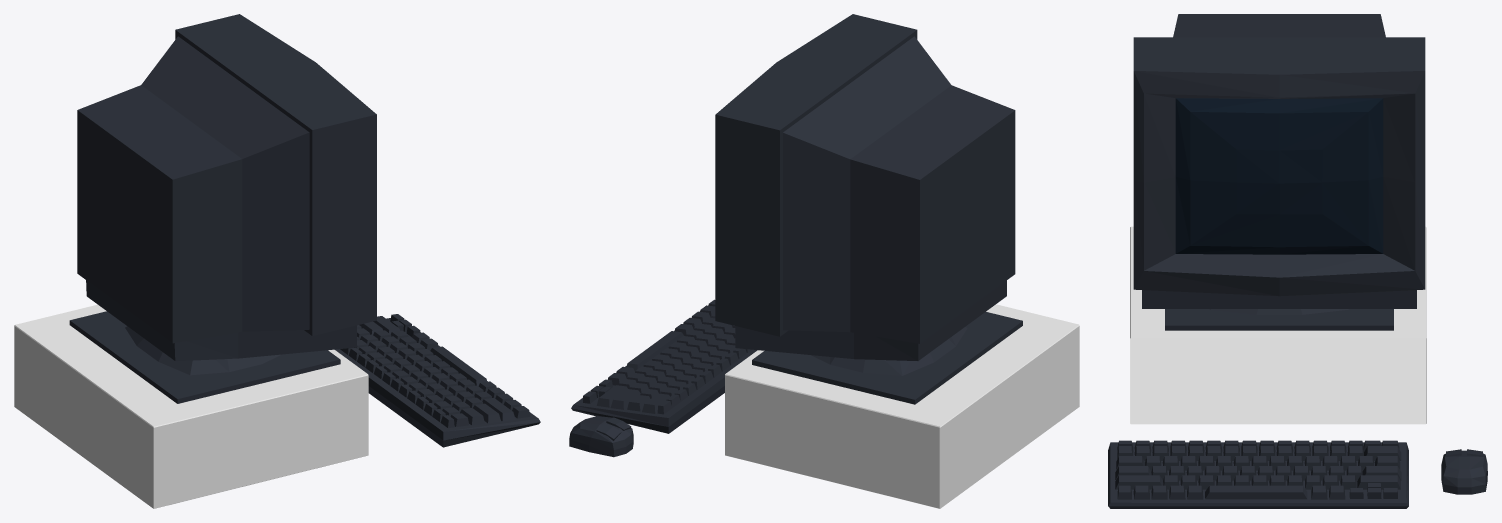
Rendered from retro-pc-cream.obj.
3 views of the same model, side by side, from view 1: azimuth 30°, elevation 25°; view 2: azimuth 150°, elevation 25°; view 3: azimuth 270°, elevation 25° (orthographic). The views are drawn at different scales.
Parts seen in each view (by area): view 1: monitor_002-0, pc_004-0, keyboard_002; view 2: monitor_002-0, pc_004-0, keyboard_002, mouse_001; view 3: monitor_002-0, monitor_002-1, pc_004-0, keyboard_002, mouse_001.
Part boxes in pixels (bbox=[...]): monitor_002-0: bbox=[69, 14, 376, 403]; pc_004-0: bbox=[14, 304, 368, 508]; keyboard_002: bbox=[335, 314, 540, 447]; monitor_002-0: bbox=[715, 14, 1022, 404]; pc_004-0: bbox=[725, 304, 1079, 508]; keyboard_002: bbox=[571, 299, 757, 433]; mouse_001: bbox=[569, 416, 633, 457]; monitor_002-0: bbox=[1133, 14, 1425, 330]; monitor_002-1: bbox=[1175, 98, 1383, 254]; pc_004-0: bbox=[1130, 226, 1426, 424]; keyboard_002: bbox=[1108, 440, 1408, 508]; mouse_001: bbox=[1441, 449, 1487, 494].
Bounding box in the file's own units: 1.25 × 1.08 × 1.03.
